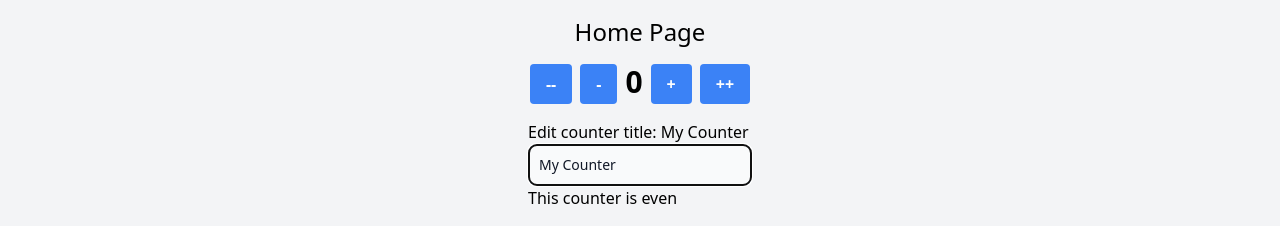
Test case: HomePage.vue › should the counter element increment by one when the button is clicked
Click the button with class "increment": point(671, 84) [651,64,692,104]
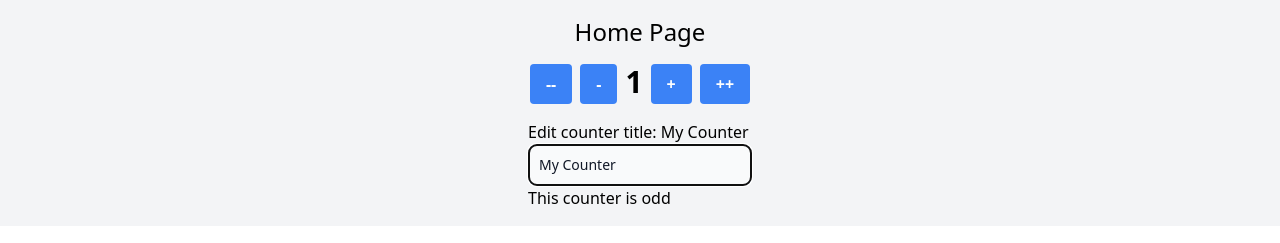
Check: the text with class "counter" reads "1", box [625,61,643,102]
